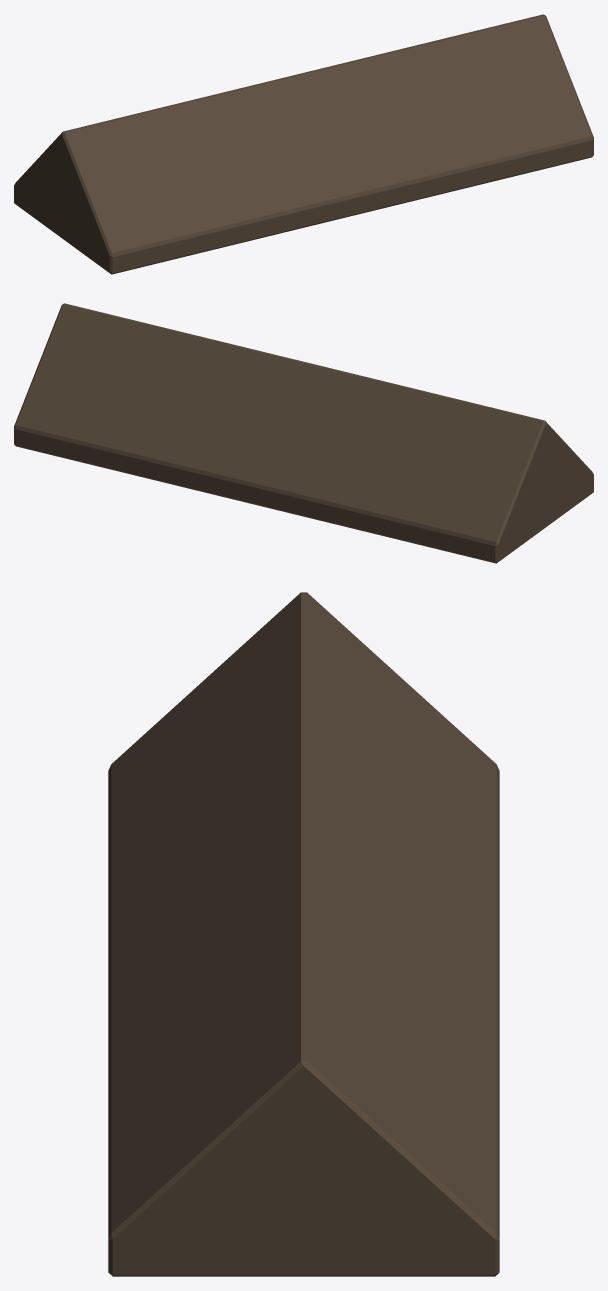
The model's file is SM_Roof_Ridge_45.fbx.
The picture shows the model from 3 angles, top to bottom: view 1: azimuth 30°, elevation 25°; view 2: azimuth 150°, elevation 25°; view 3: azimuth 270°, elevation 25°; orthographic projection. The views are drawn at different scales.
Visible parts, largest first — view 1: SM_Roof_Ridge_45; view 2: SM_Roof_Ridge_45; view 3: SM_Roof_Ridge_45.
Part boxes in pixels (x1,y1,x2,y2): SM_Roof_Ridge_45: (14, 14, 593, 274); SM_Roof_Ridge_45: (14, 303, 593, 563); SM_Roof_Ridge_45: (108, 592, 499, 1276).
Size of the model in its own units: 2 by 0.4243 by 0.7.
